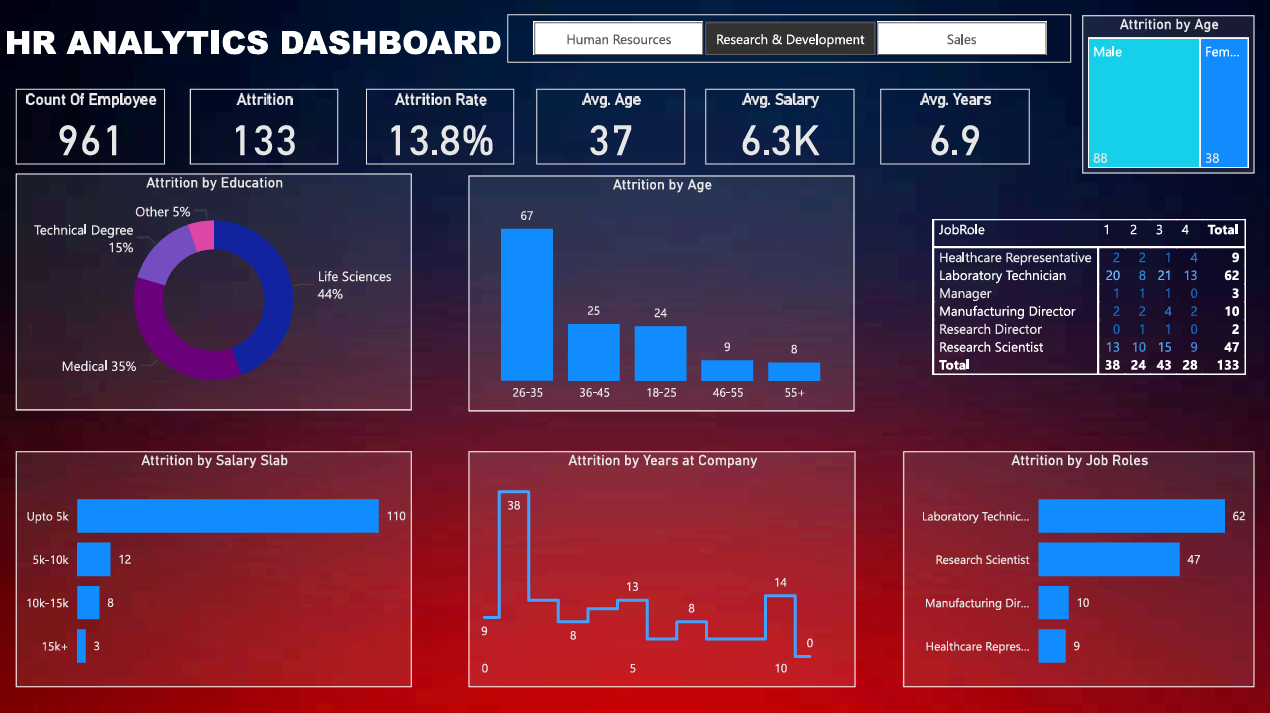

The page's visual inventory and layout, read from the dashboard file:
{"tool":"powerbi","page":{"name":"Page 1","canvas":[1280,720],"ordinal":0},"visuals":[{"type":"card","title":"Count Of Employee","fields":{"Values":["CountNonNull(HR_Analytics.EmpID)"]},"box":[16.5,89.2,149.6,75.5],"z":0},{"type":"card","title":"Attrition","fields":{"Values":["Sum(HR_Analytics.AttritionCount)"]},"box":[190.7,89.2,149.6,75.5],"z":1000},{"type":"card","title":"Attrition Rate","fields":{"Values":["HR_Analytics.AttritionRate"]},"box":[367.8,89.2,149.6,75.5],"z":2000},{"type":"card","title":"Avg. Age","fields":{"Values":["Avg(HR_Analytics.Age)"]},"box":[539.3,89.2,149.6,75.5],"z":3000},{"type":"card","title":"Avg. Years","fields":{"Values":["Avg(HR_Analytics.YearsAtCompany)"]},"box":[885.1,89.2,149.6,75.5],"z":4000},{"type":"card","title":"Avg. Salary","fields":{"Values":["Avg(HR_Analytics.MonthlyIncome)"]},"box":[709.4,89.2,149.6,75.5],"z":5000},{"type":"donutChart","title":"Attrition by Education","fields":{"Category":["HR_Analytics.EducationField"],"Y":["Sum(HR_Analytics.AttritionCount)"]},"box":[16.5,174.3,397.9,237.4],"z":6000},{"type":"columnChart","title":"Attrition by Age","fields":{"Category":["HR_Analytics.AgeGroup"],"Y":["Sum(HR_Analytics.AttritionCount)"]},"box":[470.7,175.6,388.3,237.4],"z":7000},{"type":"pivotTable","fields":{"Rows":["HR_Analytics.JobRole"],"Columns":["HR_Analytics.JobSatisfaction"],"Values":["Sum(HR_Analytics.AttritionCount)"]},"box":[933.1,215.4,328,237.4],"z":8000},{"type":"barChart","title":"Attrition by Salary Slab","fields":{"Category":["HR_Analytics.SalarySlab"],"Y":["Sum(HR_Analytics.AttritionCount)"]},"box":[16.5,452.8,397.9,237.4],"z":9000},{"type":"barChart","title":"Attrition by Job Roles","fields":{"Category":["HR_Analytics.JobRole","HR_Analytics.SalarySlab"],"Y":["Sum(HR_Analytics.AttritionCount)"]},"box":[908.4,452.8,352.7,237.4],"z":10000},{"type":"lineChart","title":"Attrition by Years at Company","fields":{"Category":["HR_Analytics.YearsAtCompany"],"Y":["Sum(HR_Analytics.AttritionCount)"]},"box":[470.7,452.8,389.7,237.4],"z":11000},{"type":"treemap","title":"Attrition by Age","fields":{"Group":["HR_Analytics.Gender"],"Values":["Sum(HR_Analytics.AttritionCount)"]},"box":[1088.2,15.1,172.9,159.2],"z":12000},{"type":"slicer","fields":{"Values":["HR_Analytics.Department"]},"box":[510.5,13.7,566.7,49.4],"z":13000},{"type":"textbox","box":[0,13.7,531,75.5],"z":14000}]}

Visuals, with their boxes in screenshot pixels (x1, y1, x2, y2), scaled from the page's 1280x720 canvas onto the 1270x713 screenshot:
"Count Of Employee" card: rect(16, 88, 165, 163)
"Attrition" card: rect(189, 88, 338, 163)
"Attrition Rate" card: rect(365, 88, 513, 163)
"Avg. Age" card: rect(535, 88, 684, 163)
"Avg. Years" card: rect(878, 88, 1027, 163)
"Avg. Salary" card: rect(704, 88, 852, 163)
"Attrition by Education" donutChart: rect(16, 173, 411, 408)
"Attrition by Age" columnChart: rect(467, 174, 852, 409)
pivotTable - HR_Analytics.JobRole x HR_Analytics.JobSatisfaction: rect(926, 213, 1251, 448)
"Attrition by Salary Slab" barChart: rect(16, 448, 411, 683)
"Attrition by Job Roles" barChart: rect(901, 448, 1251, 683)
"Attrition by Years at Company" lineChart: rect(467, 448, 854, 683)
"Attrition by Age" treemap: rect(1080, 15, 1251, 173)
slicer - HR_Analytics.Department: rect(507, 14, 1069, 62)
textbox: rect(0, 14, 527, 88)
